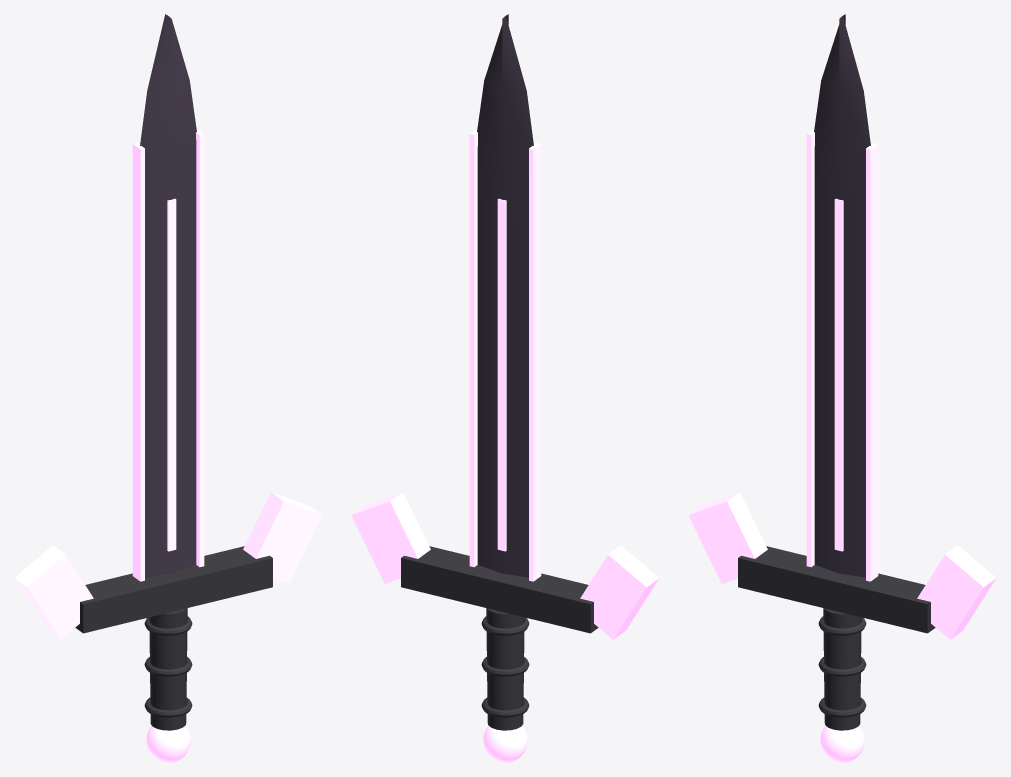
Rendered from espada_neon.glb.
3 renders of one model, left to right at view 1: azimuth 30°, elevation 25°; view 2: azimuth 150°, elevation 25°; view 3: azimuth 330°, elevation 25°, orthographic.
Parts seen in each view (by area): view 1: espada_neon; view 2: espada_neon; view 3: espada_neon.
Part boxes in pixels (box(x1,y1,x2,y2)): espada_neon: box(14, 14, 322, 762); espada_neon: box(351, 14, 659, 762); espada_neon: box(688, 14, 996, 762).
Bounding box in the file's own units: 0.5293 × 1.28 × 0.074.
